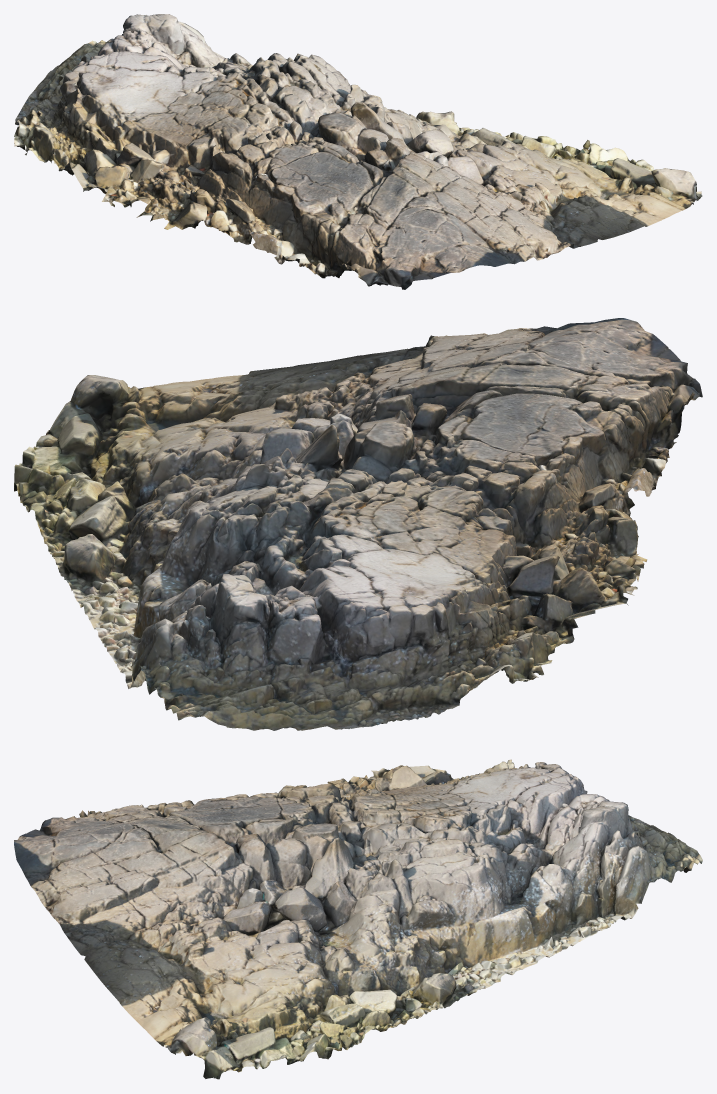
Rendered from beach_reef.glb.
The picture shows the model from 3 angles, top to bottom: view 1: azimuth 30°, elevation 25°; view 2: azimuth 150°, elevation 25°; view 3: azimuth 270°, elevation 25°; orthographic projection. The views are drawn at different scales.
Visible parts, largest first — view 1: Object_2; view 2: Object_2; view 3: Object_2.
Boxes of the visible parts, <box> form: Object_2: <box>14,14,702,289</box>; Object_2: <box>14,318,702,730</box>; Object_2: <box>14,759,702,1079</box>.
Size of the model in its own units: 13.14 by 2.9 by 15.6.
1 material, 1 textured.
